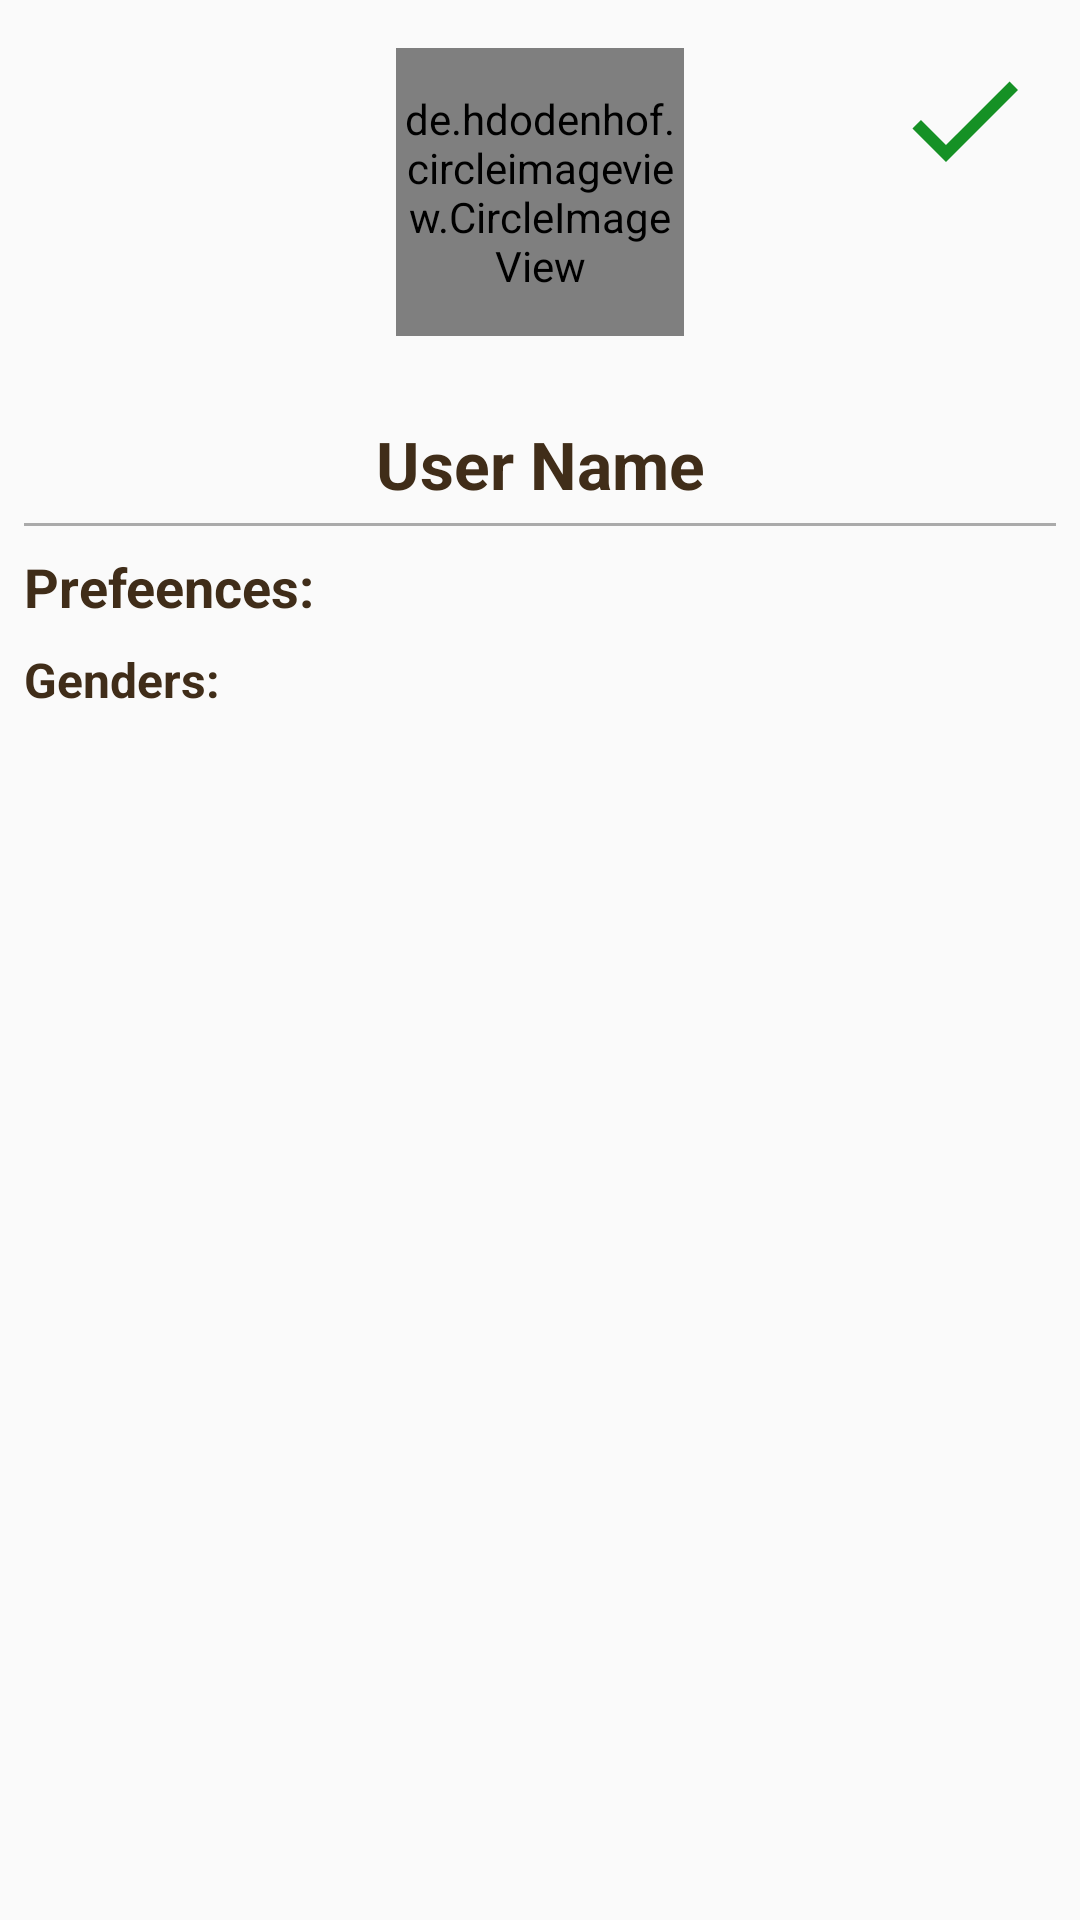

Locate icon controls on the screen. Image size 1080w x 1920h, boxes as (x1, y1, x2, y2).
check: (912, 81, 1018, 162)
